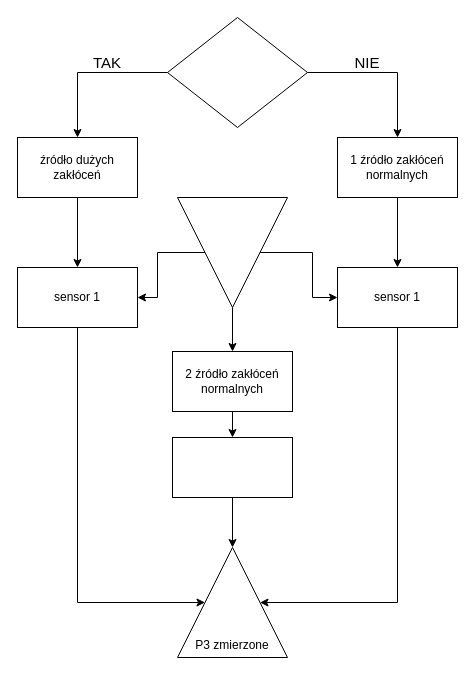
Image size: 475x675. Some labels were removed from this diagram. Each missing label, with the box of its shape:
3 rodzaj awarii sensora: (166, 16, 308, 128)
P3 rzeczywiste: (176, 196, 288, 308)
sensor 2: (172, 436, 292, 498)
